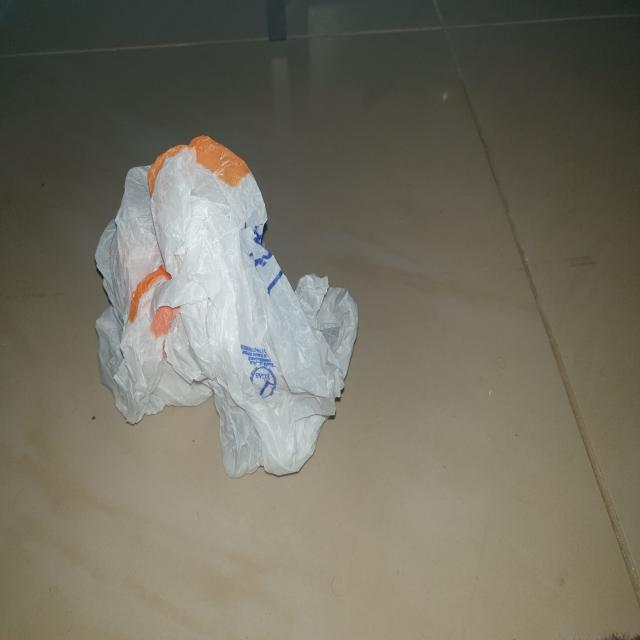Plastic_Bag: (71, 125, 363, 493)
